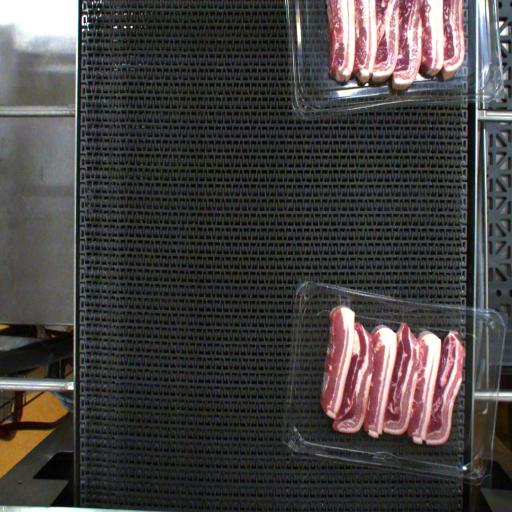packaging-error: (338, 291, 352, 307)
